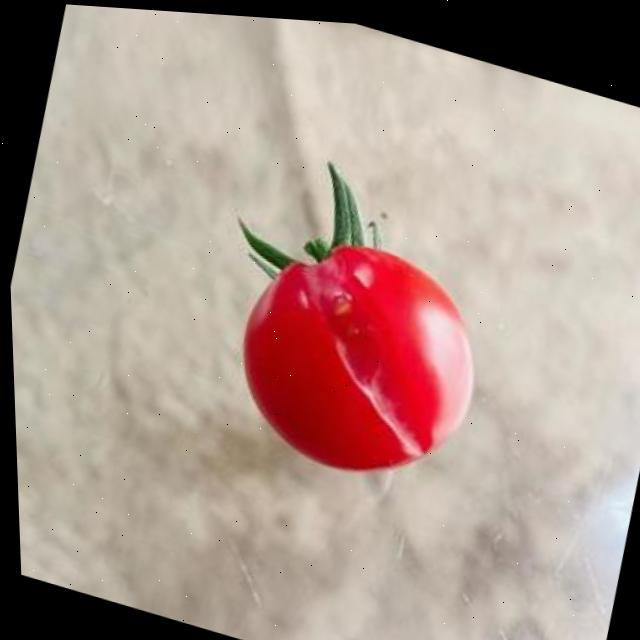damaged: (189, 183, 526, 517)
